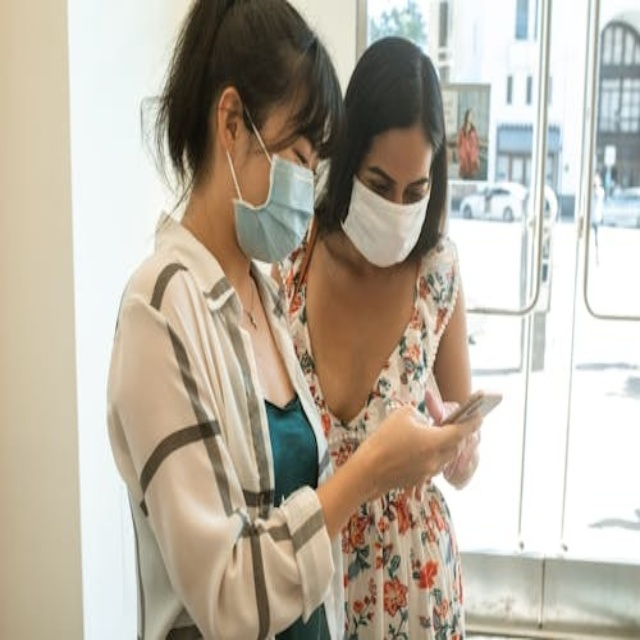Mascara: (229, 105, 314, 264), (341, 171, 431, 268)
Sin_gafas: (358, 156, 433, 208), (255, 119, 316, 175)
Sin_guantes: (357, 394, 488, 513)
